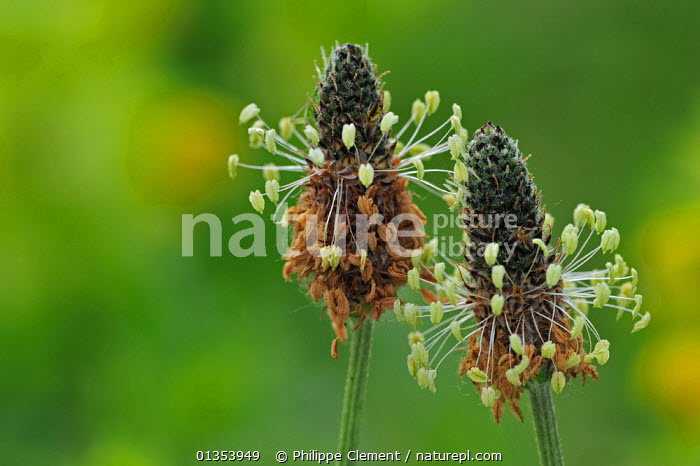buckhorn plantain: (453, 109, 659, 460), (275, 27, 412, 412)
